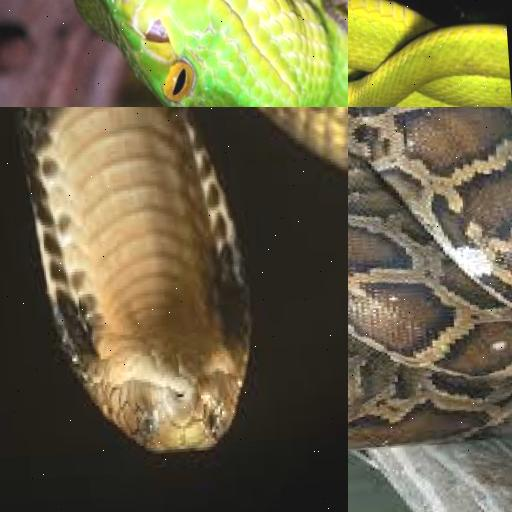snake: (26, 107, 348, 472), (348, 107, 512, 487), (0, 0, 348, 107), (348, 0, 512, 107)
